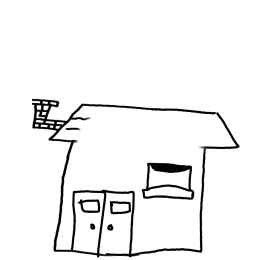bottom_placed_house: (1, 1, 260, 260)
chimney: (28, 96, 86, 145)
door: (68, 179, 139, 260)
open_window: (137, 154, 200, 207)
single_line_roof: (26, 69, 240, 160)
wall: (52, 135, 210, 260)
